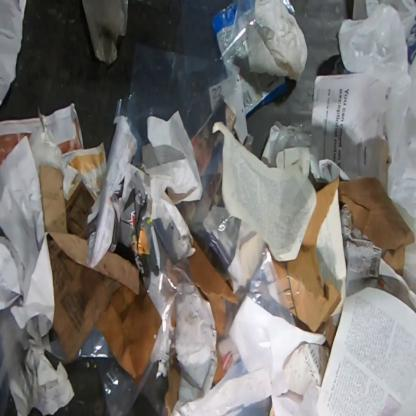cardboard: (39, 164, 162, 379), (275, 176, 341, 348), (339, 176, 414, 276), (189, 240, 236, 386), (164, 366, 182, 415)
soft_plastic: (123, 0, 299, 415), (45, 265, 199, 415), (338, 0, 415, 223), (0, 305, 33, 415), (81, 0, 128, 67), (242, 70, 289, 116), (269, 121, 312, 170)
